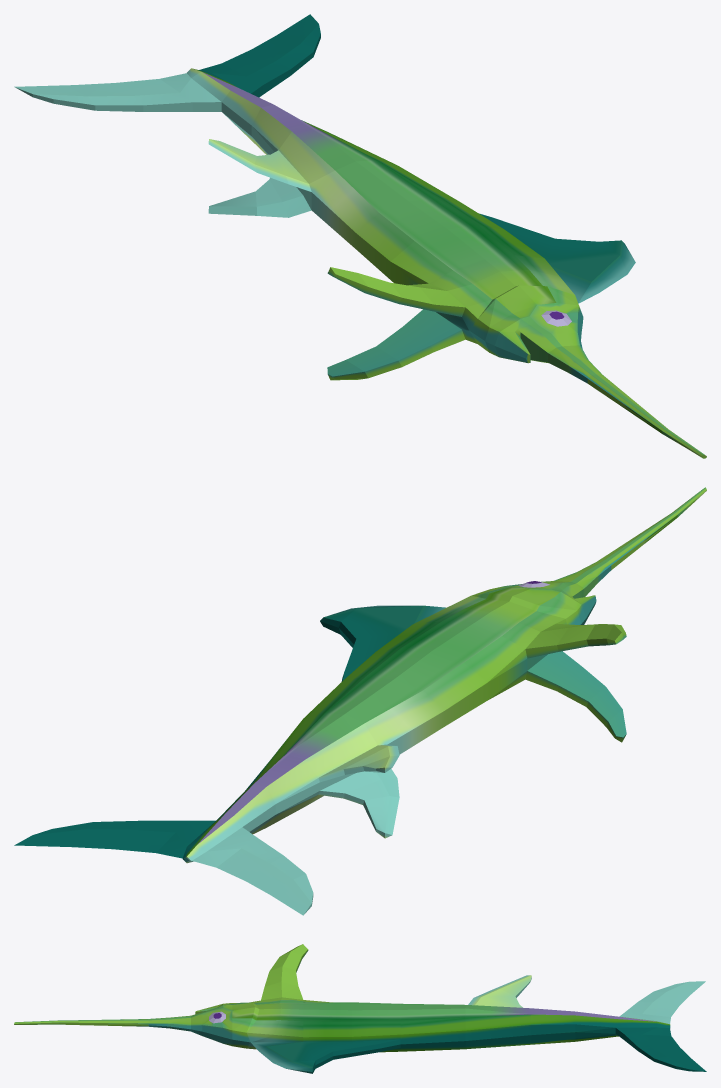
File: fish_14.FBX
The picture shows the model from 3 angles, top to bottom: view 1: azimuth 30°, elevation 25°; view 2: azimuth 150°, elevation 25°; view 3: azimuth 270°, elevation 25°; orthographic projection. The views are drawn at different scales.
Visible parts, largest first — view 1: fish_14; view 2: fish_14; view 3: fish_14.
Boxes of the visible parts, <box> form: fish_14: <box>14,14,706,458</box>; fish_14: <box>14,487,706,915</box>; fish_14: <box>14,944,706,1073</box>.
Size of the model in its own units: 41.89 by 14.88 by 132.
